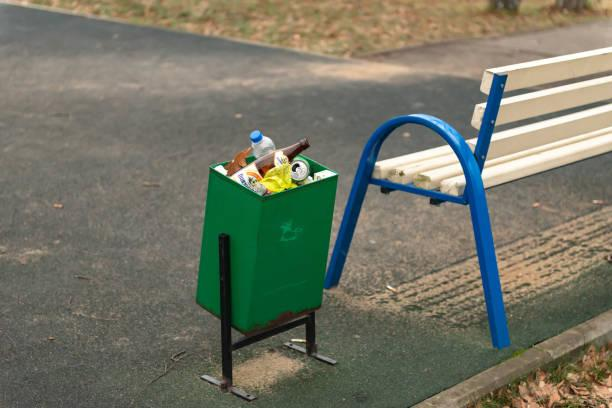trash: (195, 127, 333, 197)
trash_can_overflow: (175, 97, 349, 392)
